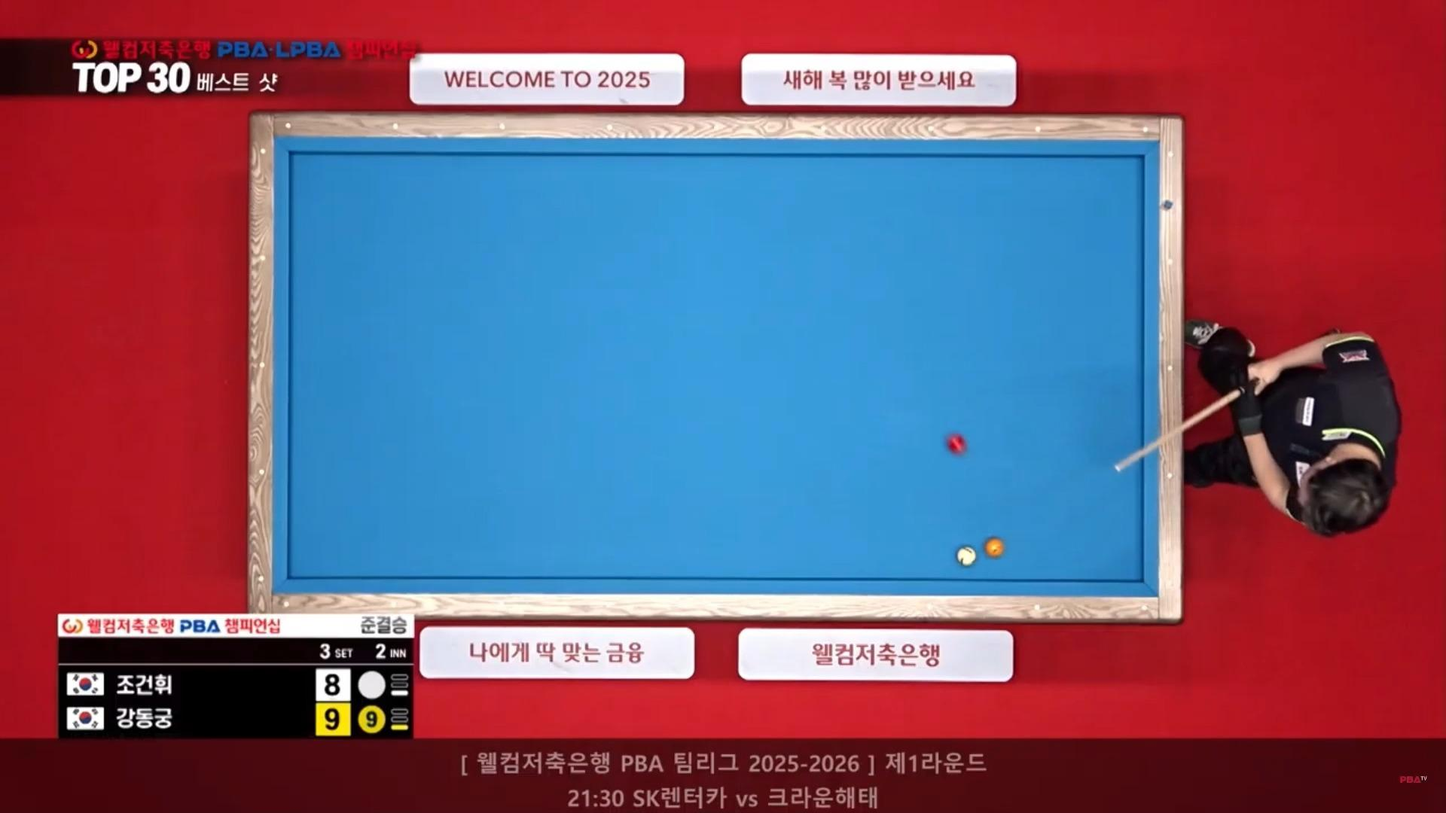Red: (946, 436, 968, 454)
White: (956, 545, 978, 564)
Yellow: (987, 539, 1009, 556)
